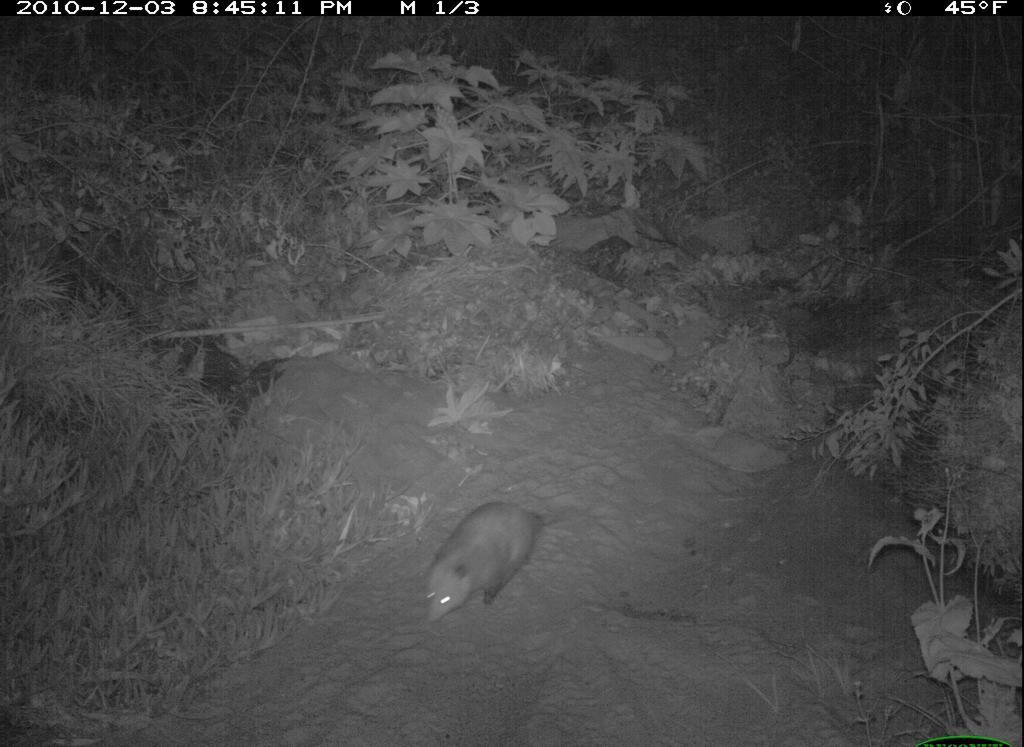opossum: (414, 493, 580, 632)
